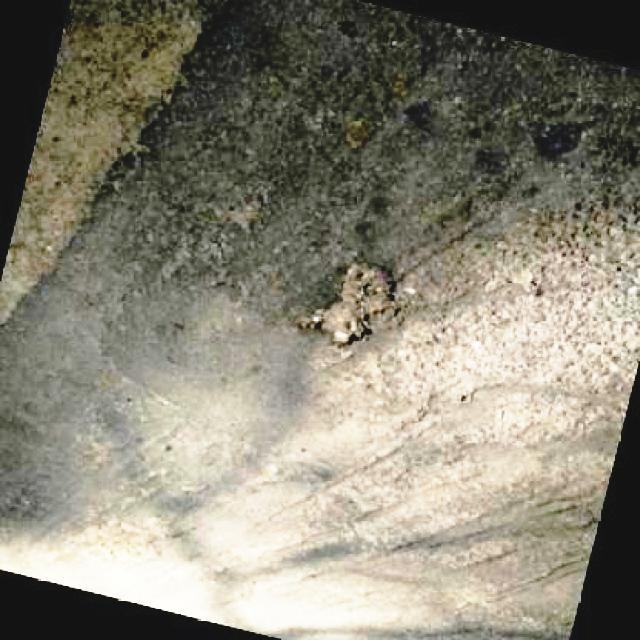pothole: (308, 257, 406, 345), (86, 518, 179, 570)
